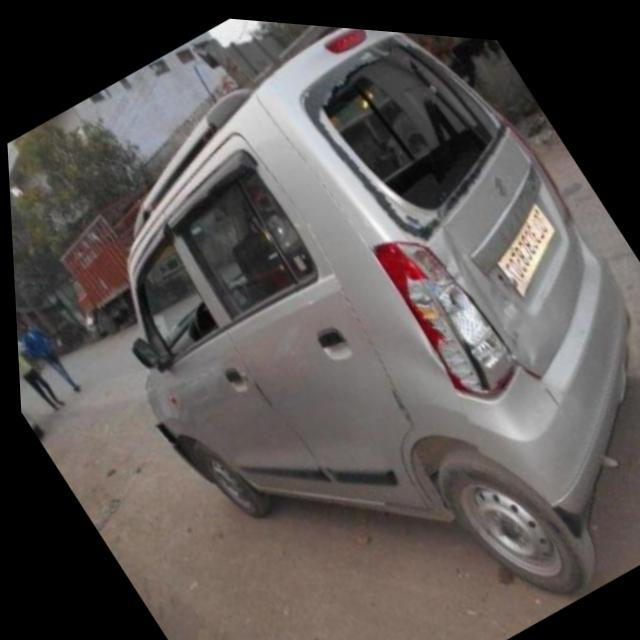glass shatter: (303, 37, 507, 215)
lamp broken: (388, 234, 512, 403)
scratch: (430, 218, 555, 405)
